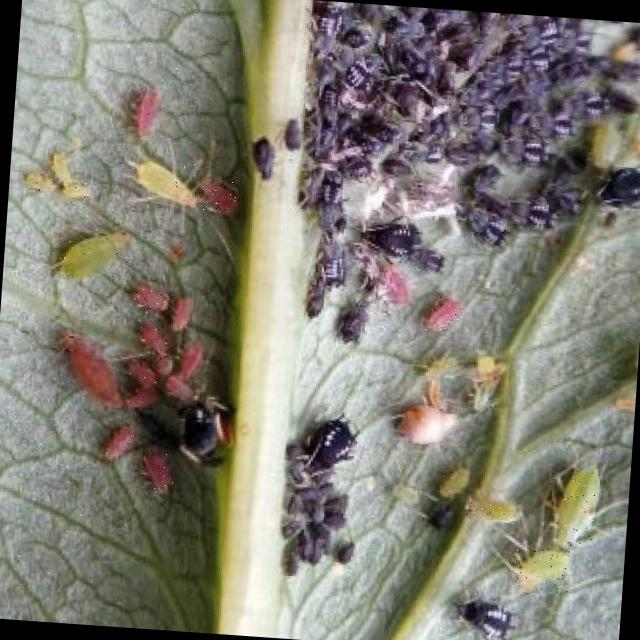aphid: (60, 333, 120, 406), (55, 230, 129, 277), (554, 467, 595, 546), (137, 159, 197, 204), (514, 548, 569, 589), (132, 86, 160, 136), (142, 449, 172, 492), (424, 296, 461, 330), (468, 499, 521, 521), (199, 178, 236, 209), (103, 425, 133, 457), (439, 466, 469, 496), (170, 293, 192, 329), (127, 362, 159, 385), (140, 322, 164, 352), (132, 287, 167, 306), (25, 170, 57, 188), (62, 181, 90, 197), (52, 154, 68, 181)
